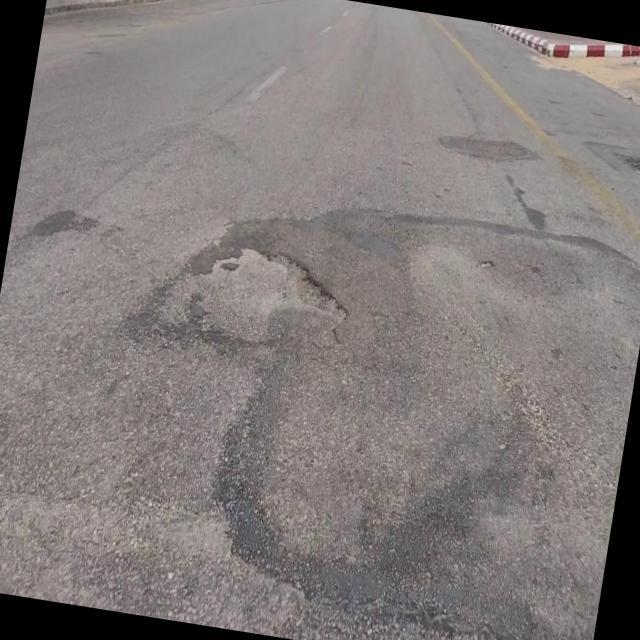Pothole: (168, 244, 348, 333)
